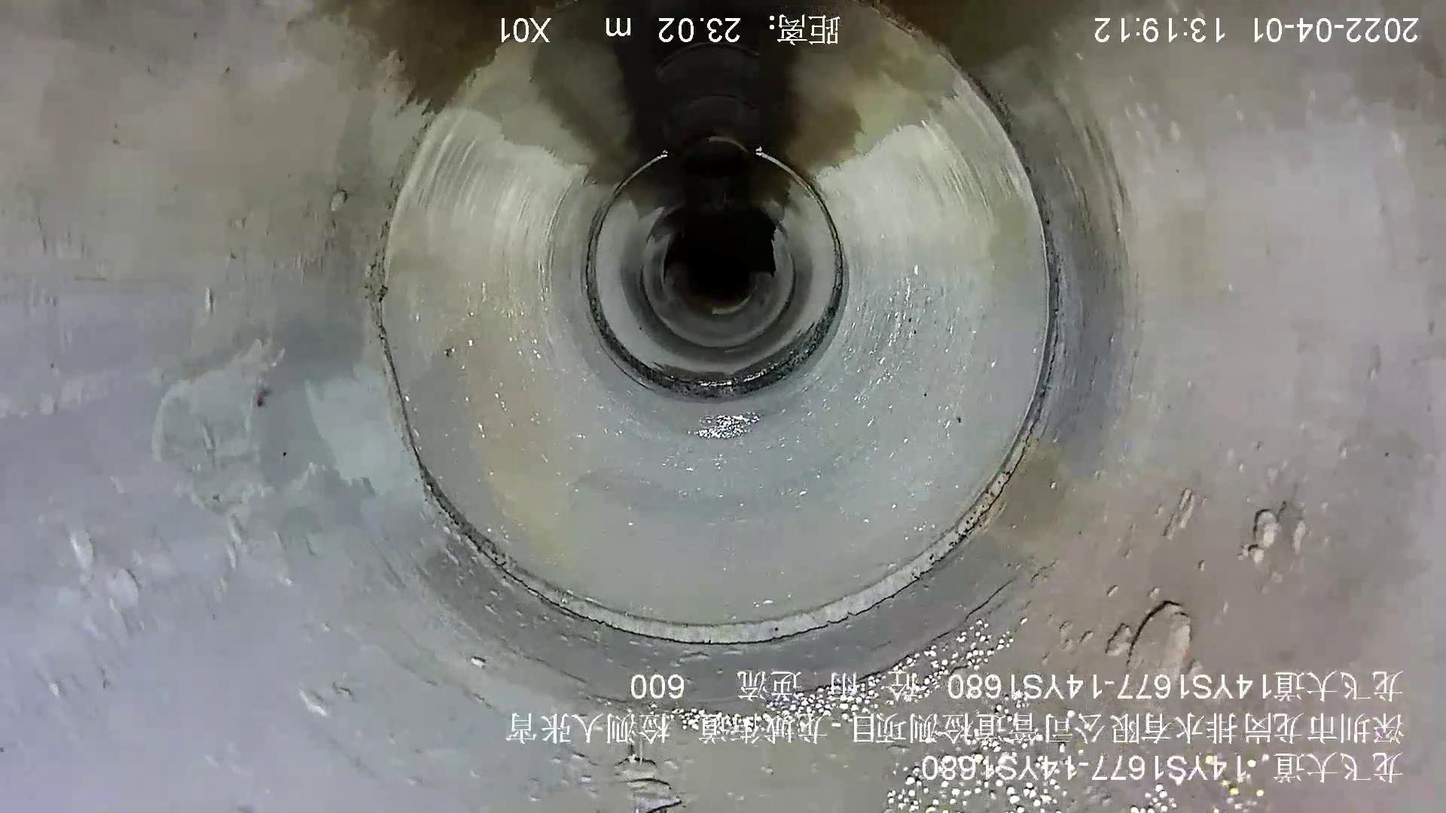CKTJ: (374, 190, 1066, 646), (581, 146, 848, 401)
